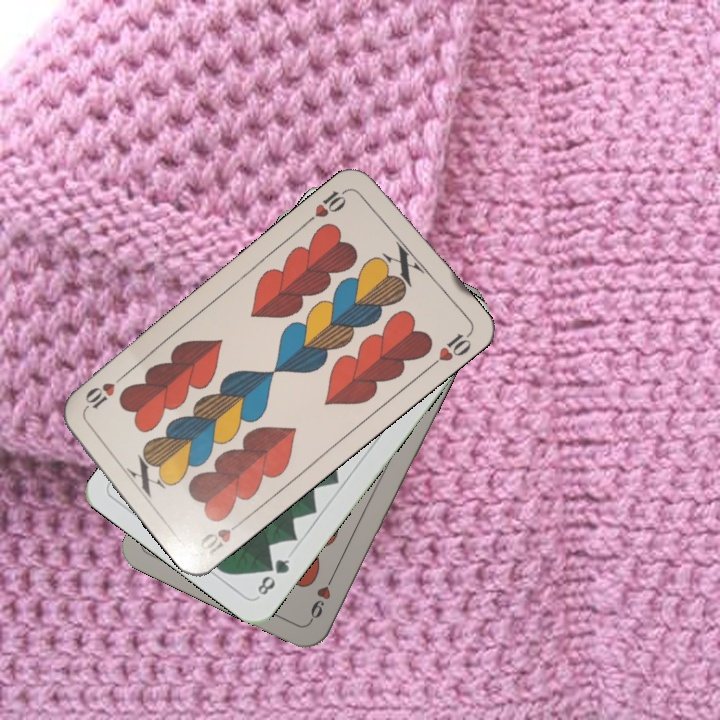G8: (253, 554, 293, 598)
H10: (196, 514, 248, 562), (310, 184, 353, 221)
H9: (305, 569, 338, 625)
